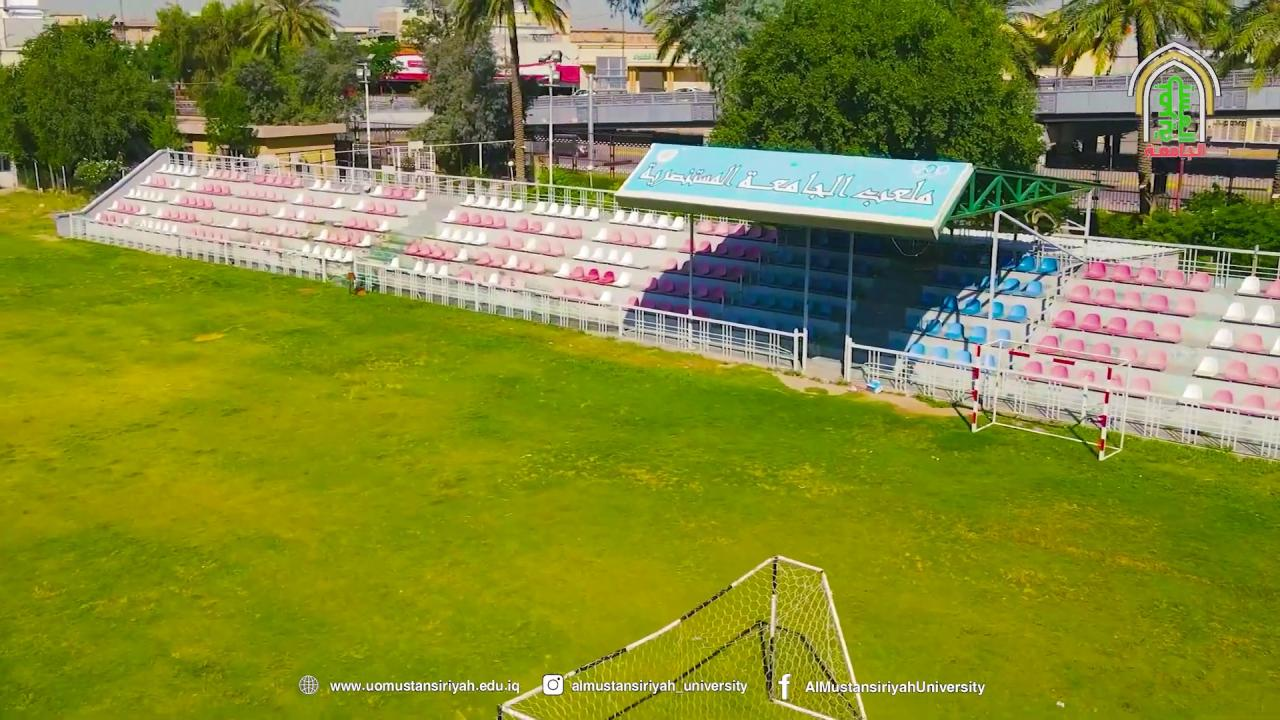car: (572, 88, 598, 97)
tree: (703, 0, 1047, 169), (1, 13, 176, 194), (445, 0, 569, 181), (402, 8, 511, 177), (641, 0, 780, 111), (1036, 0, 1235, 77), (1200, 0, 1279, 93), (242, 0, 339, 65), (190, 0, 260, 78), (197, 81, 260, 164), (231, 59, 291, 124), (151, 3, 196, 83), (606, 0, 644, 57)
